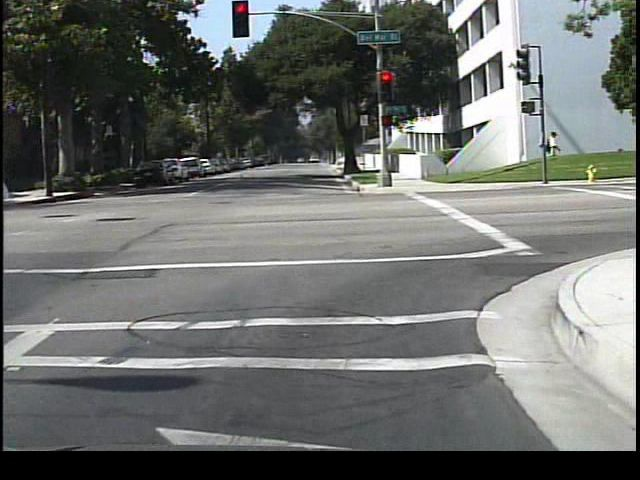person: (537, 126, 561, 175)
